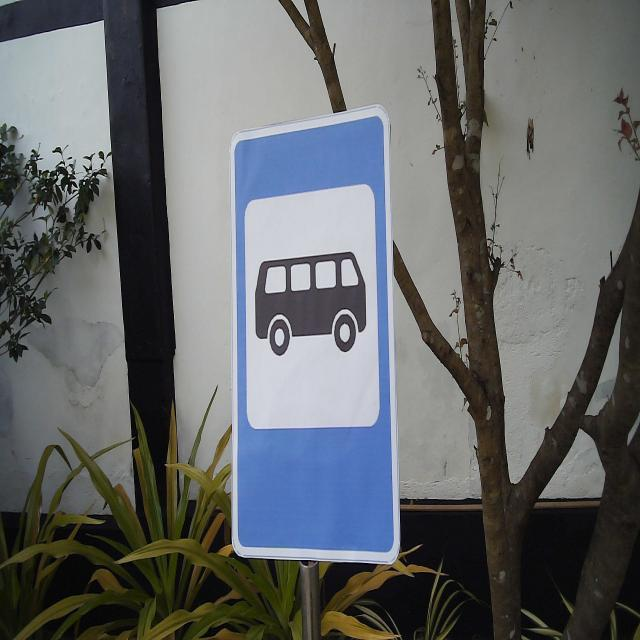bus_stop: (228, 103, 402, 567)
